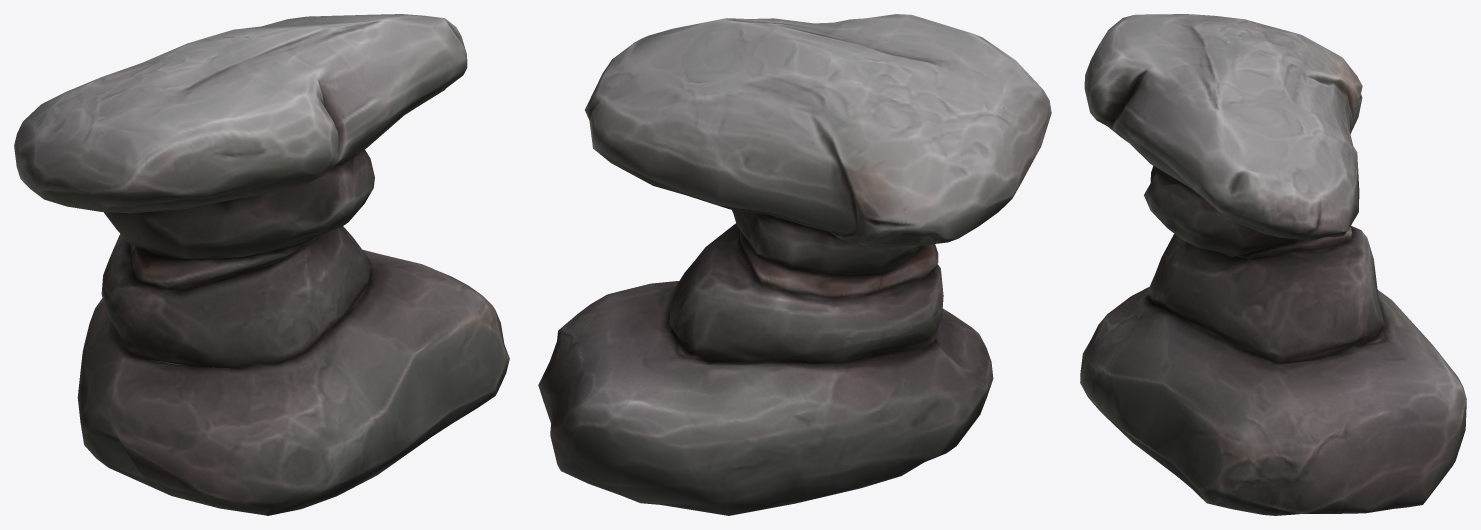
Rendered from rochedo_d.glb.
The picture shows the model from 3 angles, left to right: view 1: azimuth 30°, elevation 25°; view 2: azimuth 150°, elevation 25°; view 3: azimuth 270°, elevation 25°; orthographic projection. The views are drawn at different scales.
Visible parts, largest first — view 1: Mid_5_MID_0; view 2: Mid_5_MID_0; view 3: Mid_5_MID_0.
Part boxes in pixels (left/top/right/bottom): Mid_5_MID_0: left=14, top=14, right=509, bottom=515; Mid_5_MID_0: left=538, top=14, right=1051, bottom=515; Mid_5_MID_0: left=1080, top=14, right=1466, bottom=515.
Size of the model in its own units: 1.13 by 1 by 0.9107.
1 material, 1 textured.
